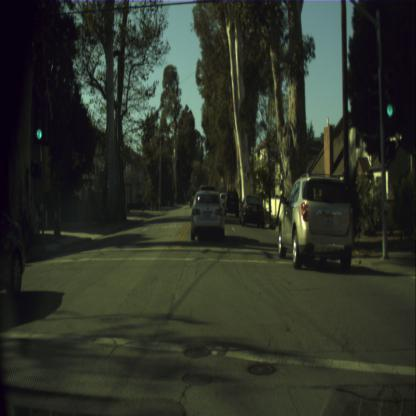Green: (384, 70, 396, 117), (35, 106, 43, 140)
